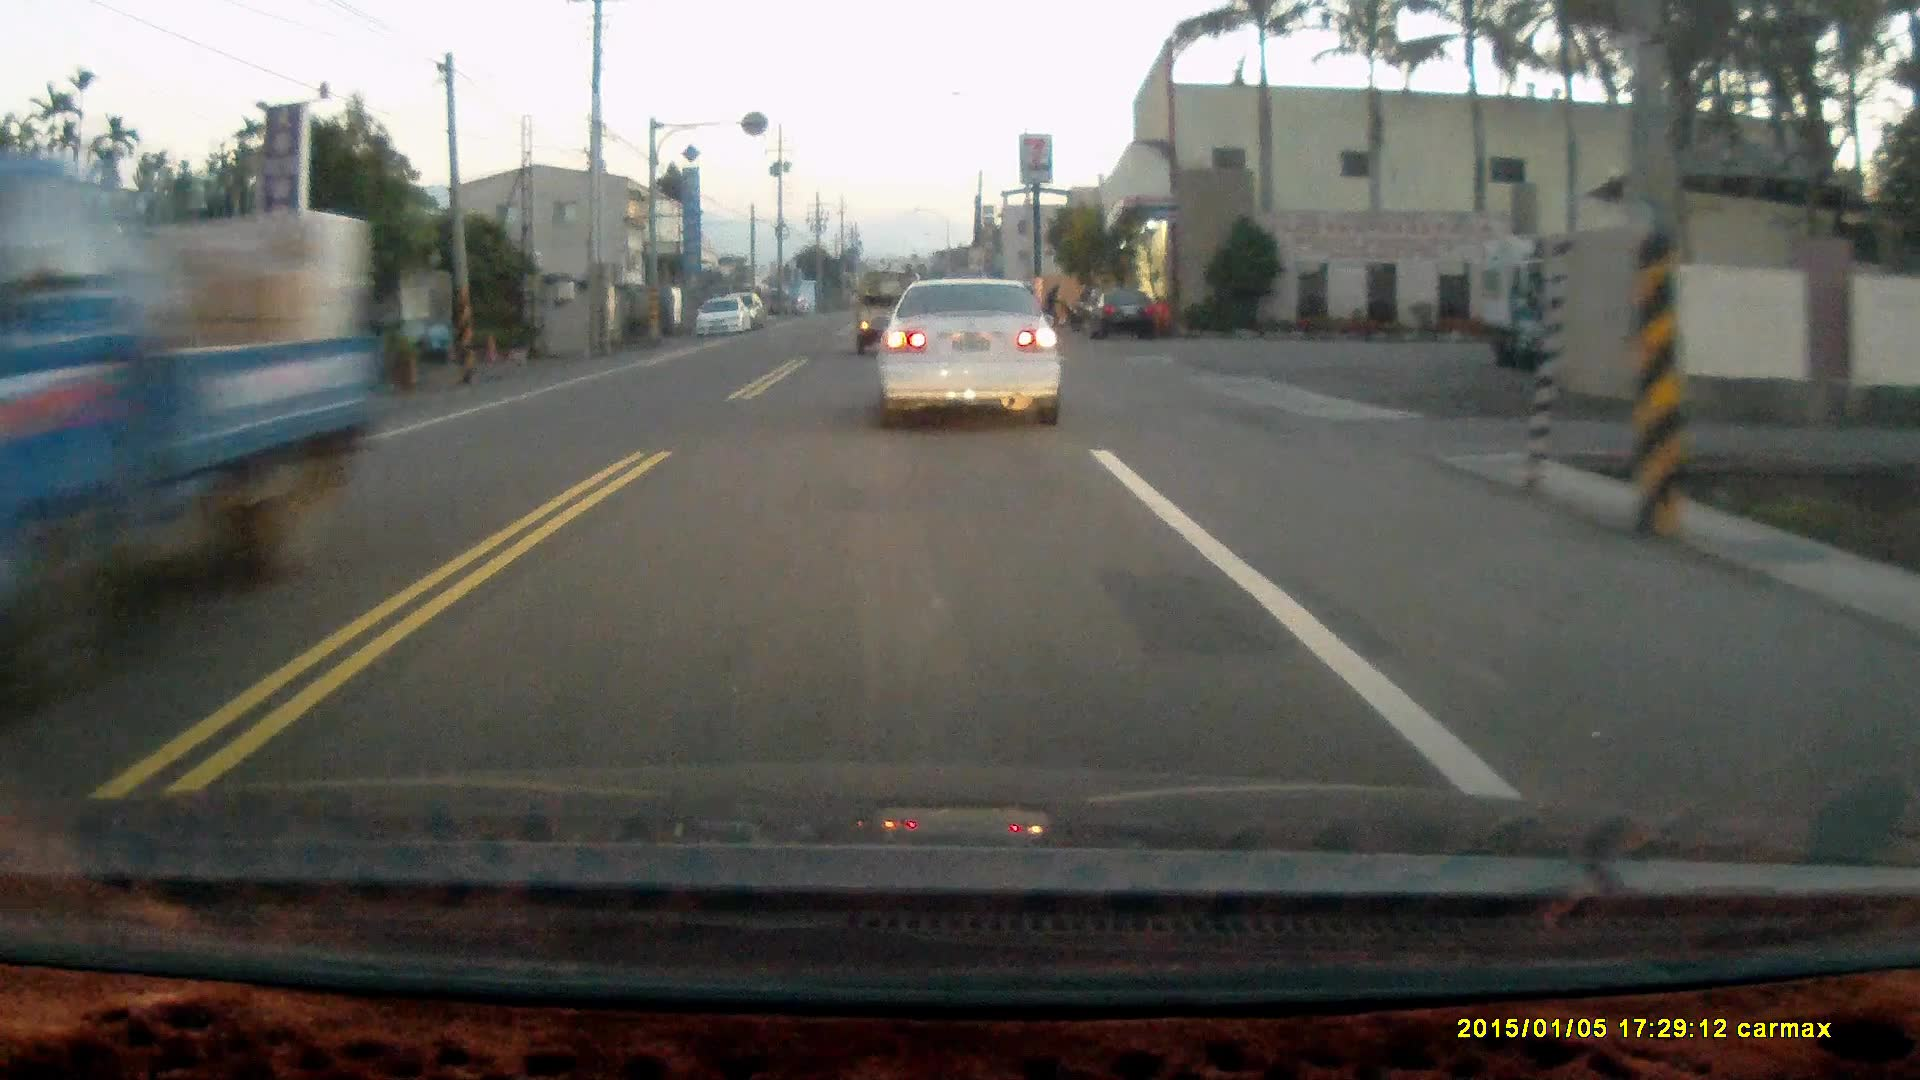rider: (1035, 280, 1080, 331)
vehicle: (1, 146, 389, 686), (884, 280, 1069, 433), (1468, 230, 1619, 377), (857, 275, 931, 363), (1084, 281, 1156, 338), (691, 290, 756, 341)
